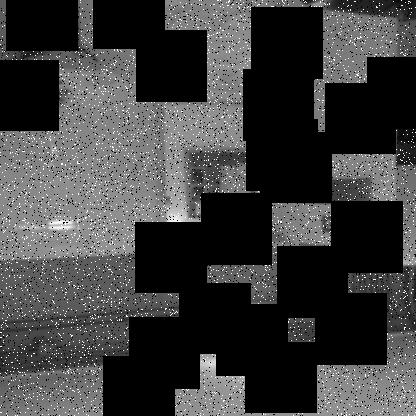Porte: (146, 1, 401, 256)
